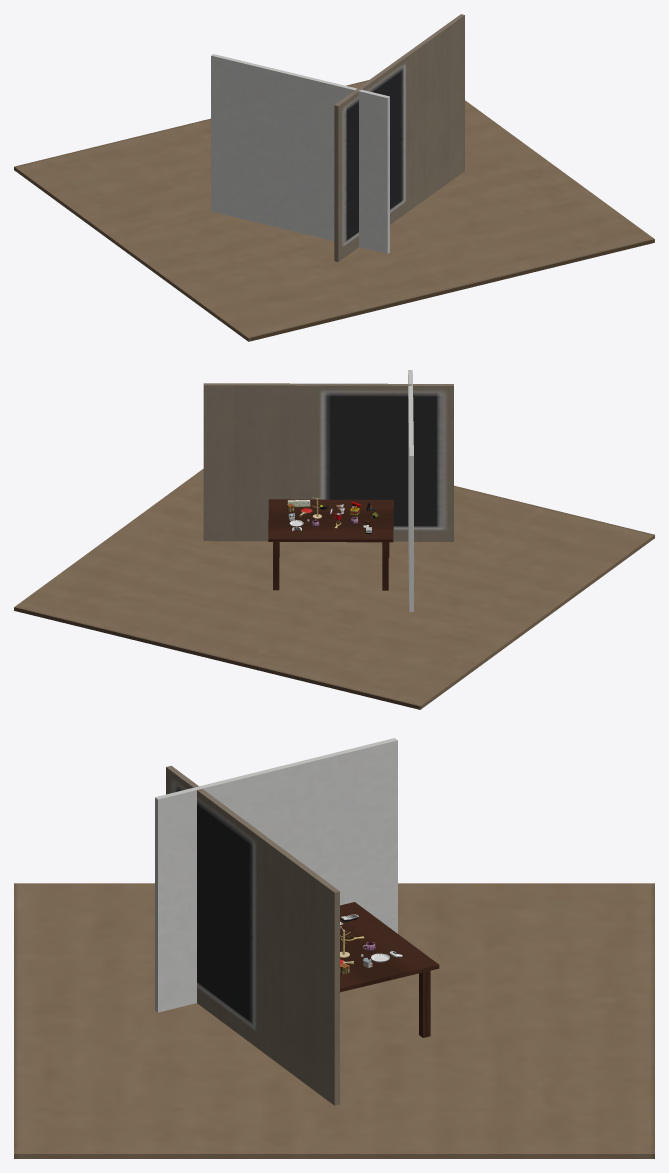
File: ours.glb
3 renders of one model, top to bottom at view 1: azimuth 30°, elevation 25°; view 2: azimuth 150°, elevation 25°; view 3: azimuth 270°, elevation 25°, orthographic. The views are drawn at different scales.
Visible parts, largest first — view 1: floor_0, wall_1, wall_0; view 2: floor_0, wall_0, table_0, wall_1; view 3: floor_0, wall_0, wall_1, table_0.
Boxes of the visible parts, bbox=[...] form: floor_0: bbox=[14, 80, 654, 341]; wall_1: bbox=[211, 54, 389, 253]; wall_0: bbox=[334, 14, 464, 261]; floor_0: bbox=[14, 468, 654, 709]; wall_0: bbox=[203, 383, 453, 541]; table_0: bbox=[268, 499, 393, 590]; wall_1: bbox=[408, 370, 413, 611]; floor_0: bbox=[14, 883, 654, 1158]; wall_0: bbox=[166, 765, 339, 1105]; wall_1: bbox=[155, 738, 397, 1012]; table_0: bbox=[340, 902, 439, 1037].
Size of the model in its own units: 6 by 2.25 by 6.
27 materials, 27 textured.
